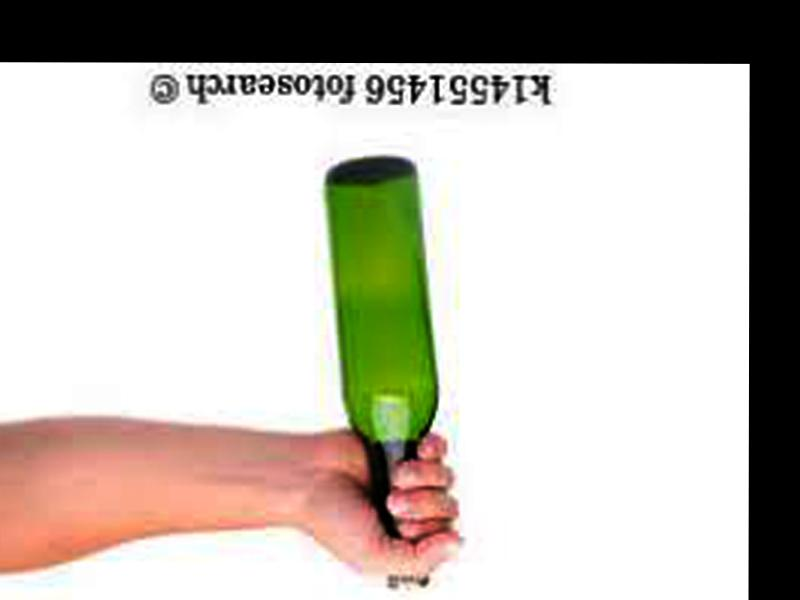Beer: (322, 157, 438, 586)
